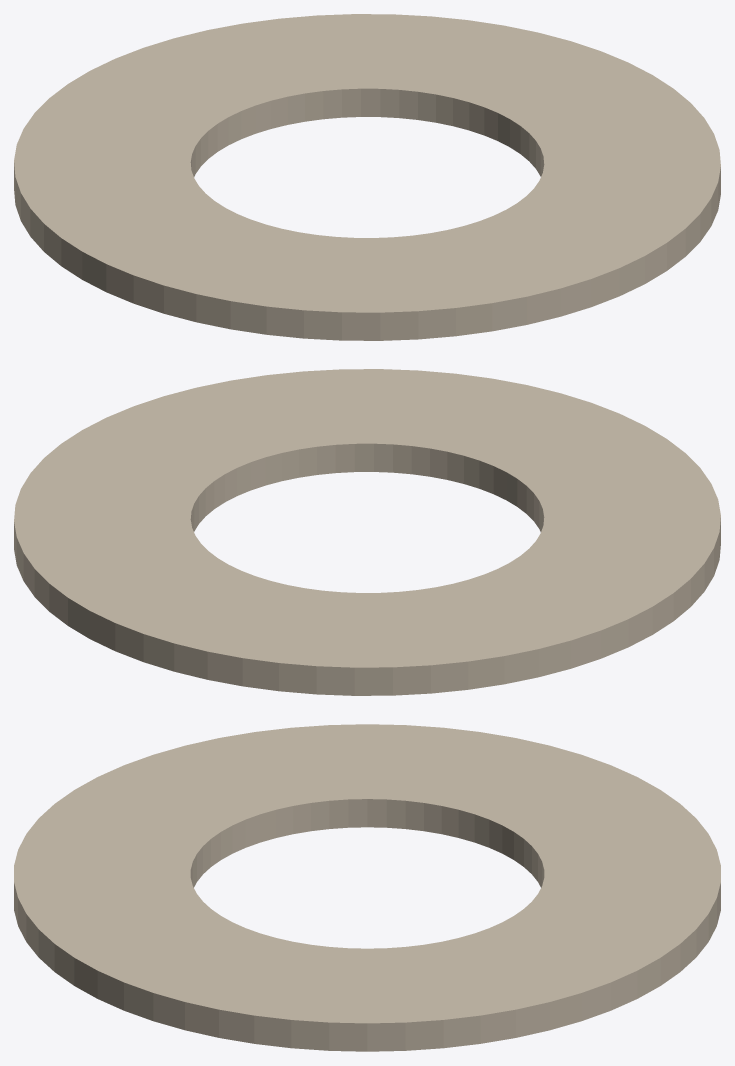
The model's file is spring-seat.glb.
3 renders of one model, top to bottom at view 1: azimuth 30°, elevation 25°; view 2: azimuth 150°, elevation 25°; view 3: azimuth 270°, elevation 25°, orthographic.
Visible parts, largest first — view 1: world; view 2: world; view 3: world.
Part boxes in pixels (<box>): world: <box>14,14,720,340</box>; world: <box>14,369,720,695</box>; world: <box>14,724,720,1051</box>.
Bounding box in the file's own units: 0.034 × 0.0015 × 0.034.
